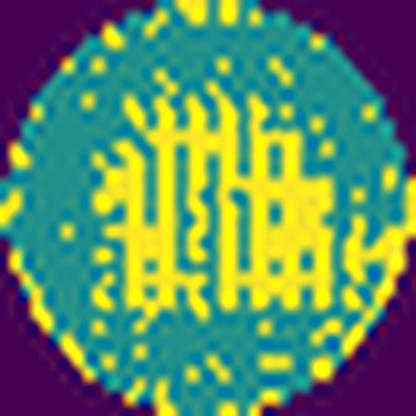Near-full: (78, 52, 415, 382)
